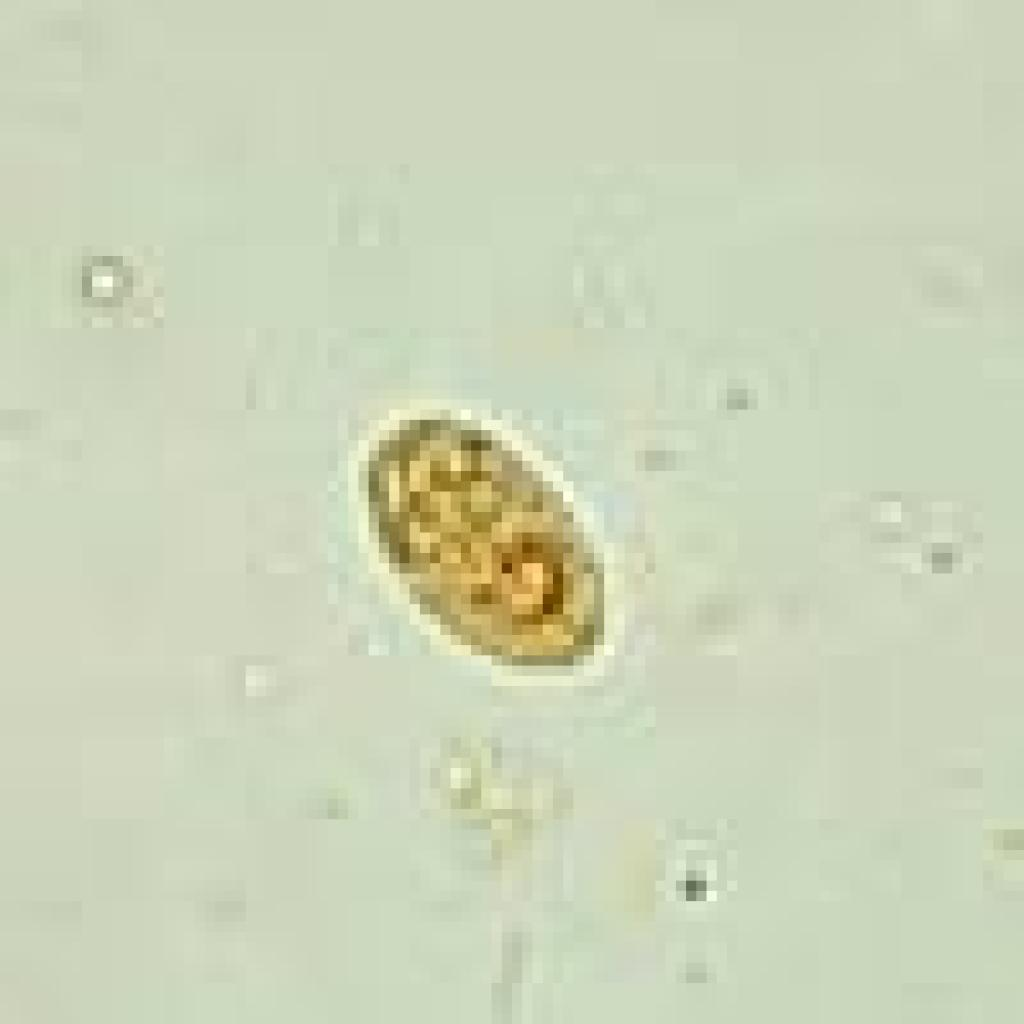Giardia: (348, 399, 614, 676)
